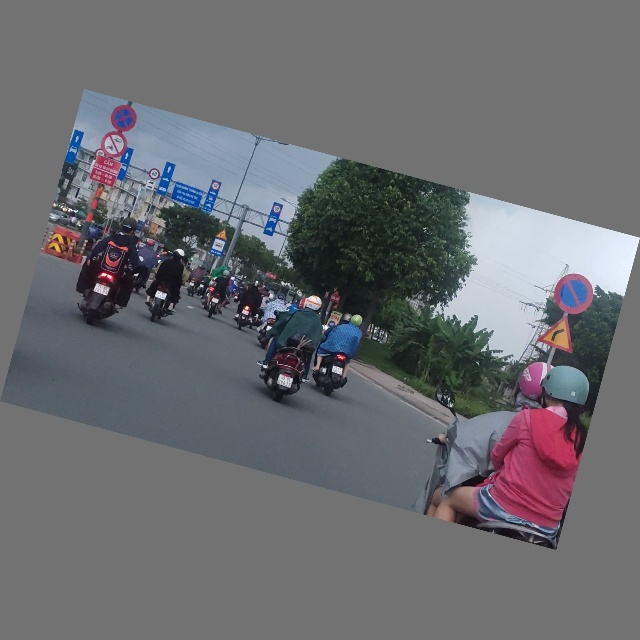I.434a: (209, 238, 227, 259)
P.111: (98, 128, 131, 162)
P.127*50: (210, 181, 221, 192), (272, 205, 282, 215)
P.127*60: (148, 167, 161, 181)
P.130: (108, 102, 140, 135)
P.131a: (549, 269, 599, 320)
S.505a*Xe tai va cong: (145, 179, 156, 192)
W.201b: (536, 309, 581, 354), (215, 228, 231, 242)
